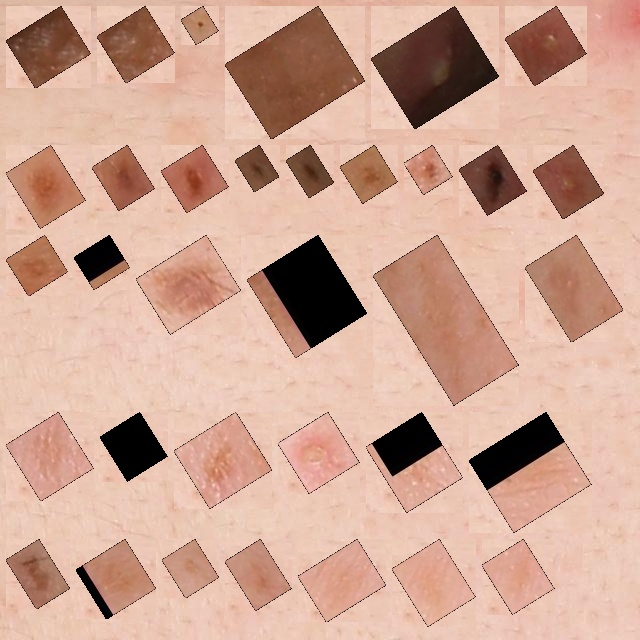hypertrophic_scar: (236, 17, 354, 128), (17, 17, 80, 77), (108, 17, 163, 72)
melasma: (384, 246, 508, 394), (258, 246, 356, 347), (480, 423, 580, 521), (536, 246, 612, 331), (147, 246, 230, 323), (377, 423, 452, 501), (185, 423, 261, 497), (17, 423, 83, 490), (403, 550, 465, 615), (309, 550, 375, 611), (87, 550, 145, 608), (493, 550, 543, 603), (236, 550, 280, 599), (111, 423, 156, 470), (17, 550, 59, 598), (17, 246, 57, 285), (173, 550, 208, 587), (85, 246, 119, 278)
nevus: (17, 156, 74, 217), (470, 156, 516, 204), (172, 156, 217, 201), (103, 156, 144, 199), (351, 156, 387, 192), (297, 156, 323, 187), (415, 156, 441, 183), (246, 156, 268, 181), (192, 17, 207, 33)
pustule: (382, 17, 488, 118), (289, 423, 348, 482), (516, 17, 575, 75), (544, 156, 593, 208)
